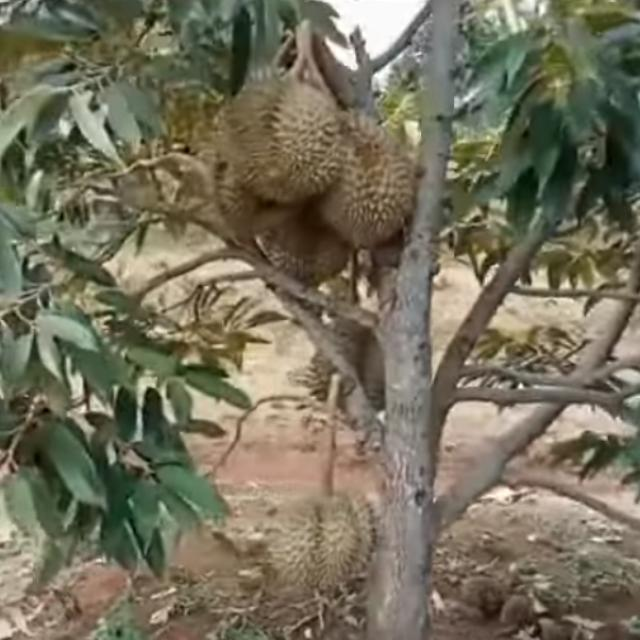mature: (213, 67, 343, 201), (312, 114, 416, 254), (265, 487, 380, 603)
